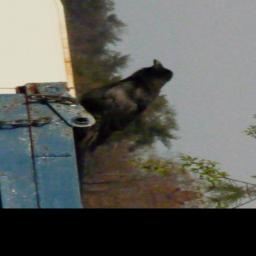Crow: (56, 57, 196, 152)
